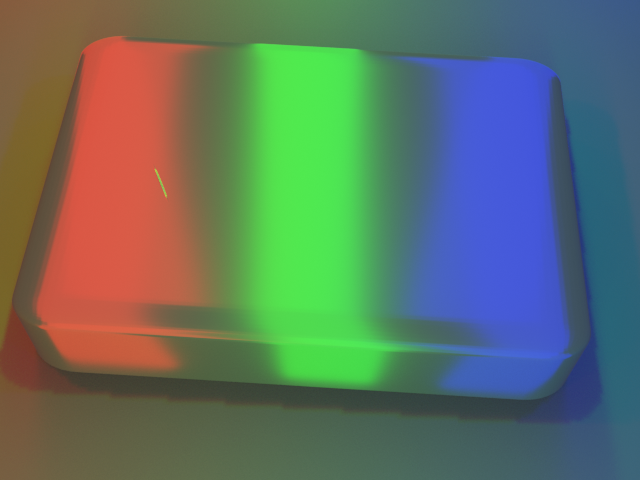scratch: (57, 130, 220, 222)
